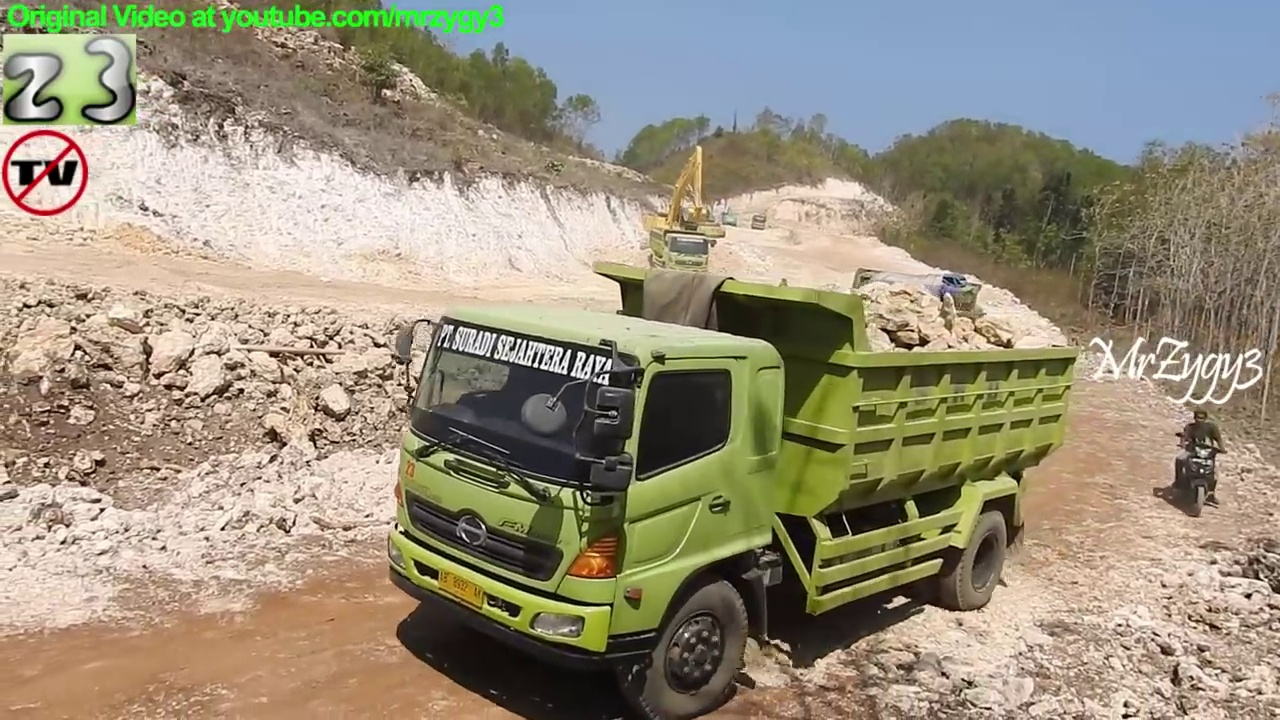excavator: (653, 141, 727, 248), (720, 203, 741, 230)
truck: (382, 258, 1084, 720), (644, 224, 715, 286), (751, 212, 771, 231)
